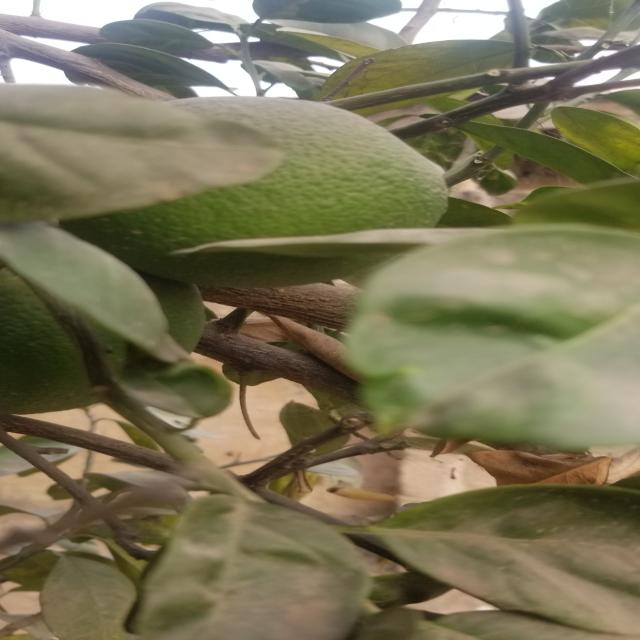Unripe: (82, 111, 424, 276), (0, 240, 212, 418)
